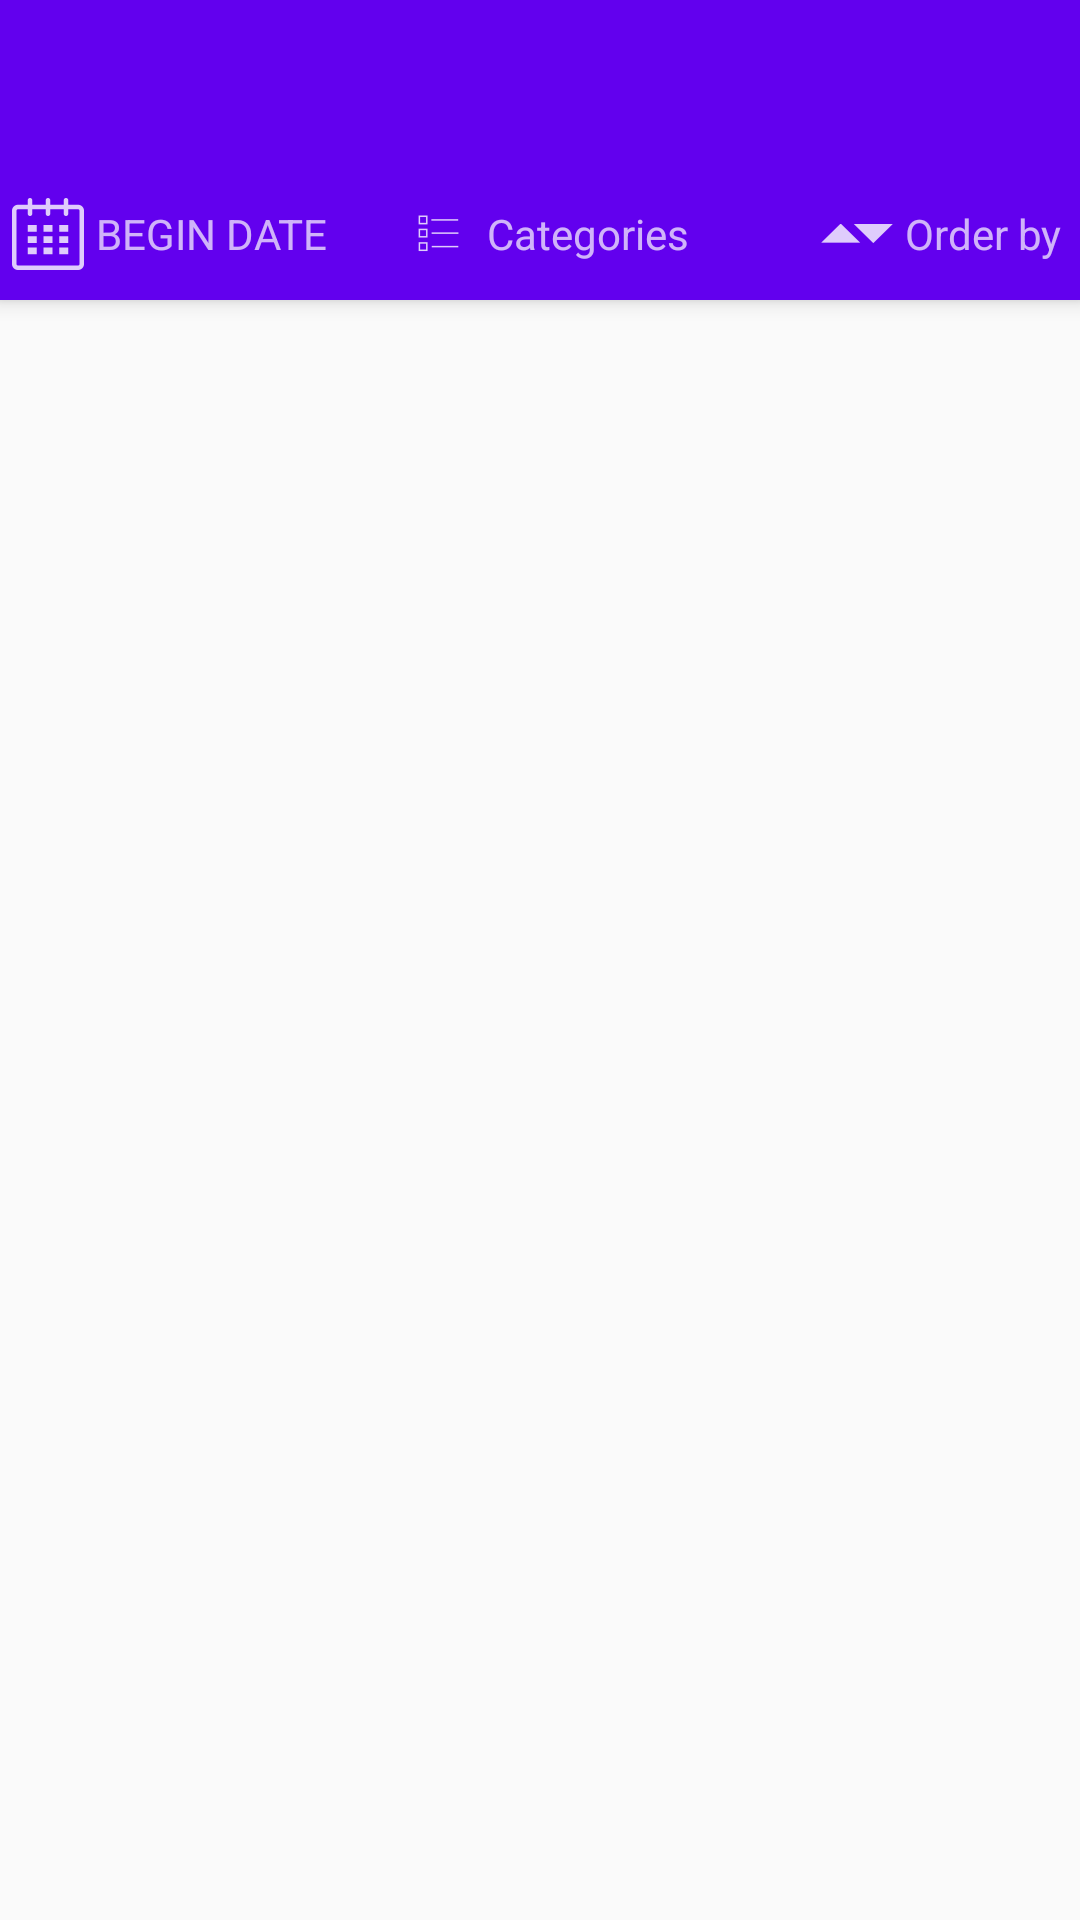

Named icons in this screenshot (1080×1920) and their bounding boxes, (x1, y1, x2, y2):
section list: (418, 215, 459, 251)
